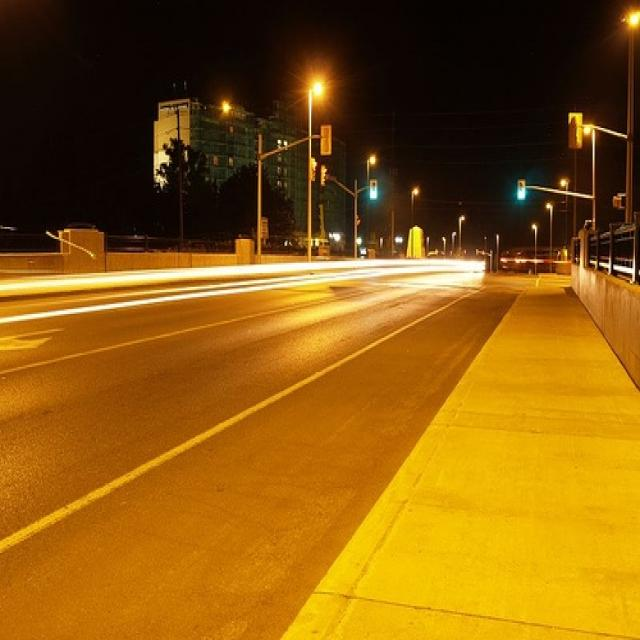car: (498, 248, 532, 272)
pole: (254, 130, 264, 263), (304, 90, 312, 256)
